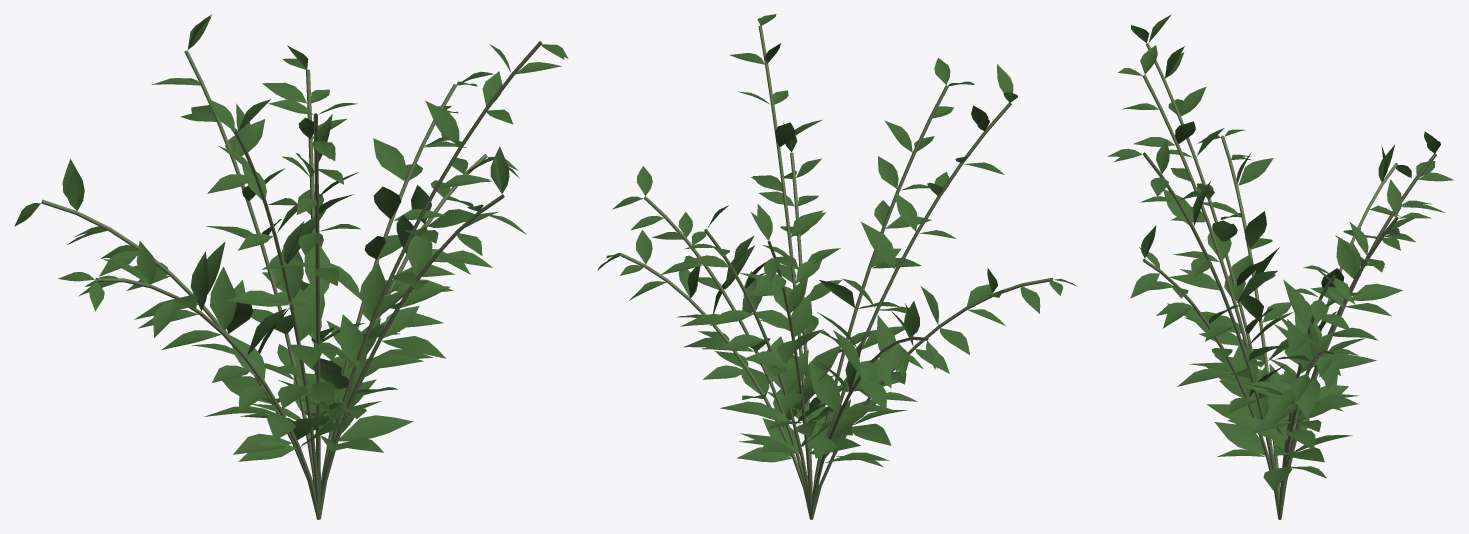
File: ruscus-2.glb
3 views of the same model, side by side, from view 1: azimuth 30°, elevation 25°; view 2: azimuth 150°, elevation 25°; view 3: azimuth 270°, elevation 25° (orthographic). The views are drawn at different scales.
Parts seen in each view (by area): view 1: ruscus-leaves, ruscus-stems; view 2: ruscus-leaves, ruscus-stems; view 3: ruscus-leaves, ruscus-stems.
Part boxes in pixels (bbox=[...]): ruscus-leaves: bbox=[14, 14, 568, 461]; ruscus-stems: bbox=[41, 41, 542, 519]; ruscus-leaves: bbox=[597, 14, 1077, 467]; ruscus-stems: bbox=[620, 25, 1052, 519]; ruscus-leaves: bbox=[1107, 14, 1453, 490]; ruscus-stems: bbox=[1142, 43, 1436, 519].
Size of the model in its own units: 0.5662 by 0.5486 by 0.3941.
